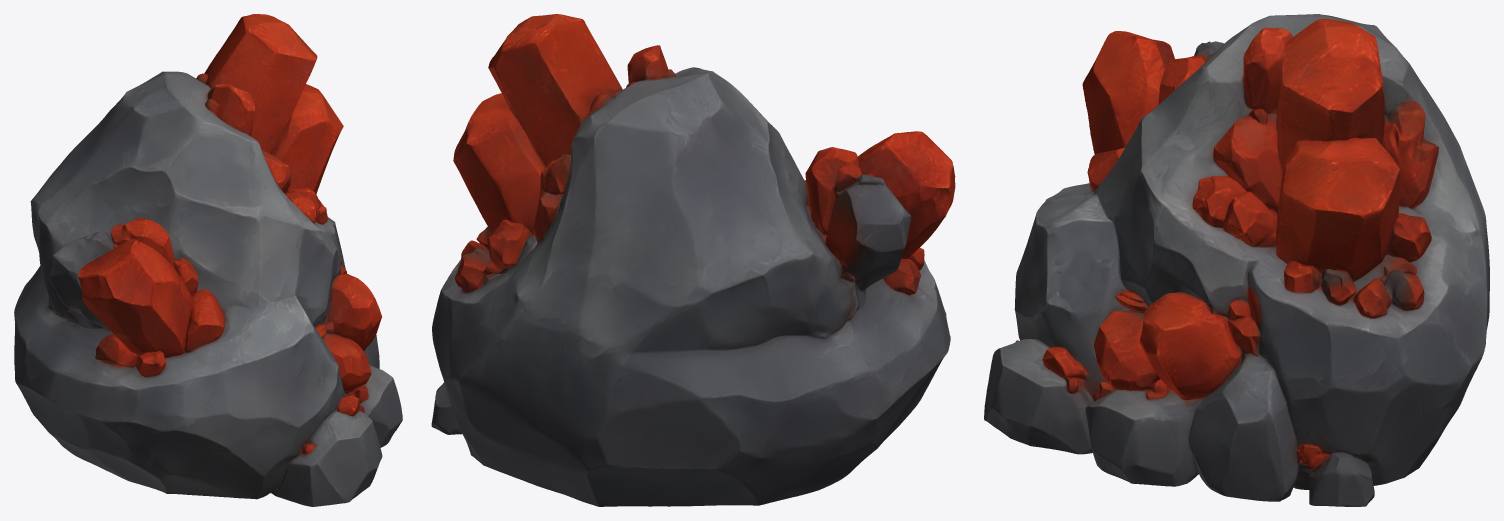
File: IronOre.fbx
3 views of the same model, side by side, from view 1: azimuth 30°, elevation 25°; view 2: azimuth 150°, elevation 25°; view 3: azimuth 270°, elevation 25° (orthographic). The views are drawn at different scales.
Parts seen in each view (by area): view 1: model; view 2: model; view 3: model.
Boxes of the visible parts, bbox=[...] form: model: bbox=[14, 14, 402, 506]; model: bbox=[431, 14, 955, 506]; model: bbox=[984, 14, 1489, 506].
Size of the model in its own units: 180 by 171 by 183.
1 material, 1 textured.
